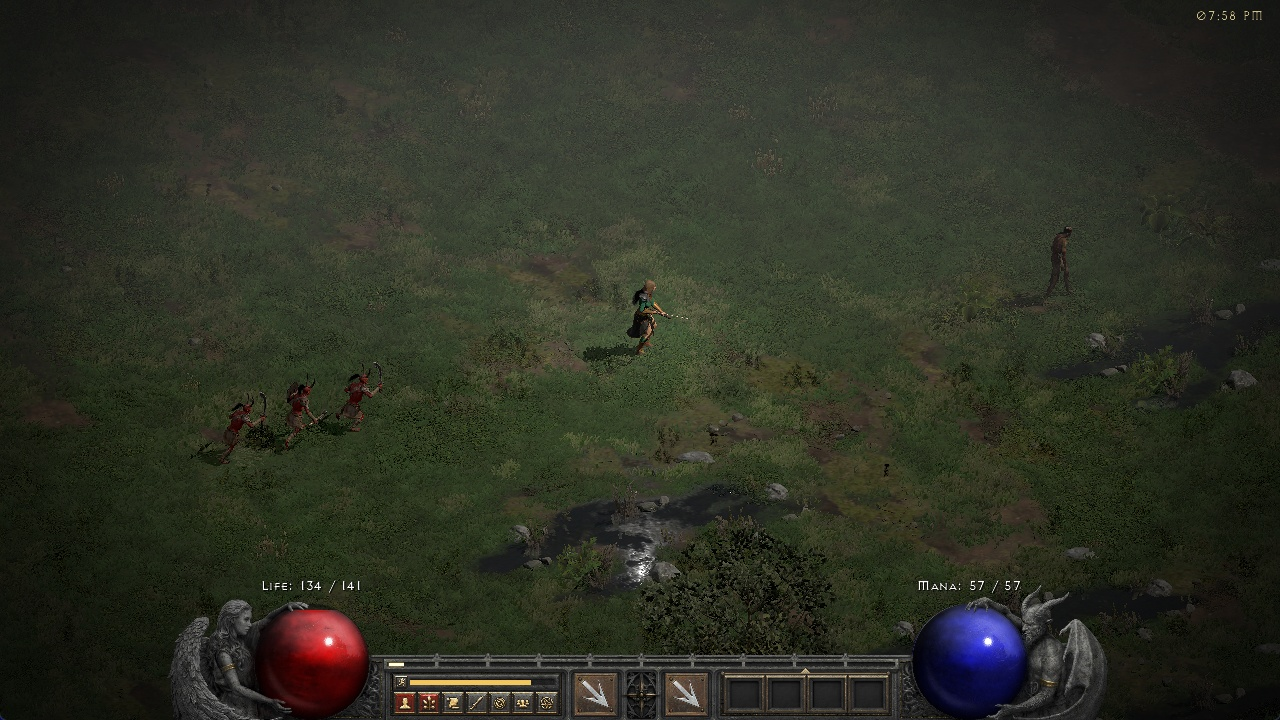fallen: (337, 358, 395, 432), (218, 391, 267, 468), (280, 373, 326, 449)
